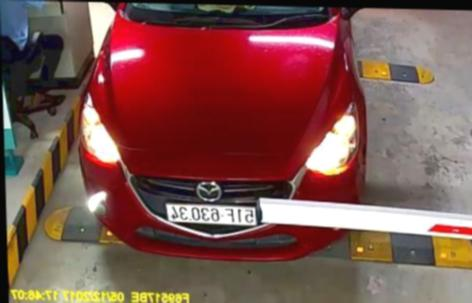License_Plate: (162, 200, 258, 228)
